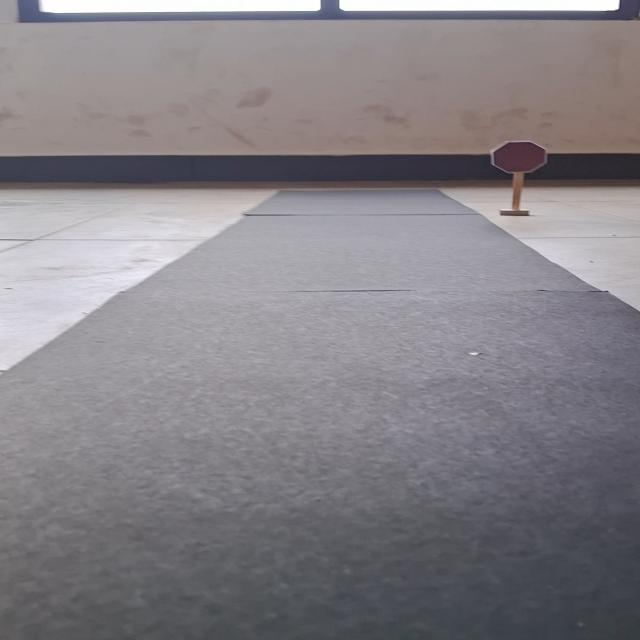Stop: (489, 140, 548, 174)
